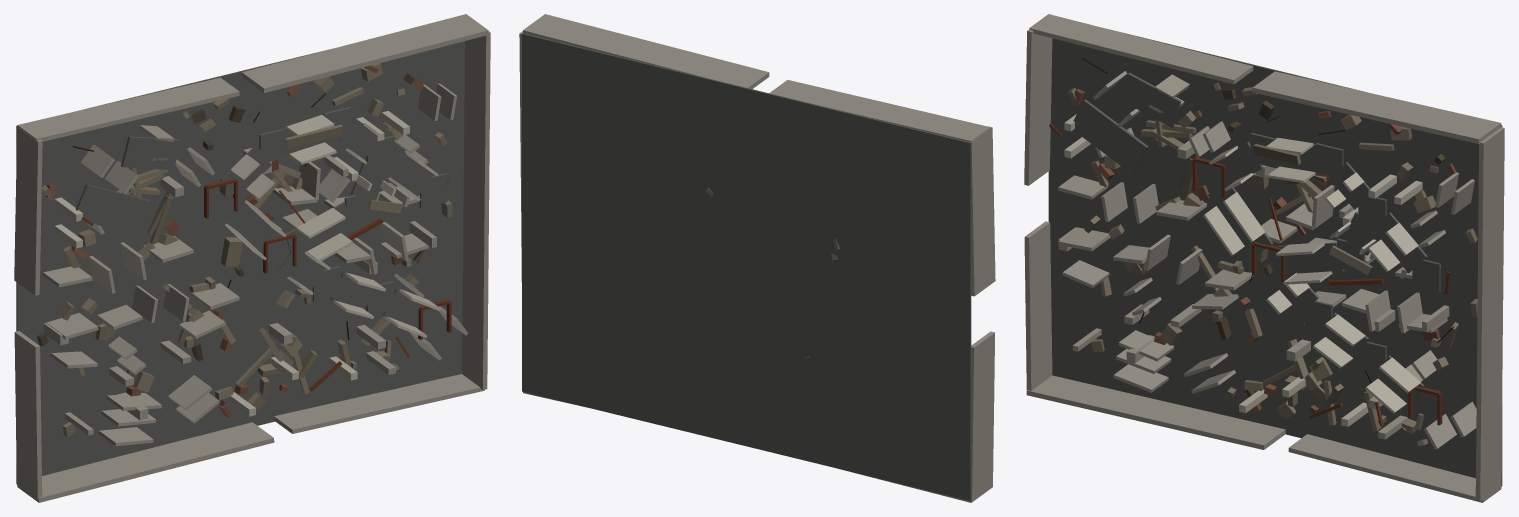
Rendered from Ruins-Urban-01_complex.obj.
3 renders of one model, left to right at view 1: azimuth 30°, elevation 25°; view 2: azimuth 150°, elevation 25°; view 3: azimuth 330°, elevation 25°, orthographic.
Visible parts, largest first — view 1: floor_slab, east_boundary, north_boundary_east, south_boundary_west, north_boundary_west, south_boundary_east, west_boundary_north, west_boundary_south, utility_ceiling_01, utility_ceiling_02, upper_walkway_uc_ua, upper_walkway_u3_upper_dead (+40 smaller); view 2: floor_slab, north_boundary_east, north_boundary_west, west_boundary_north, west_boundary_south; view 3: floor_slab, east_boundary, south_boundary_west, north_boundary_east, north_boundary_west, south_boundary_east, west_boundary_south, west_boundary_north, utility_ceiling_01, utility_ceiling_02, upper_walkway_u4_uc, upper_walkway_ua_u1 (+36 smaller).
Boxes of the visible parts, left/top/right/bottom form: floor_slab: left=16, top=41, right=464, bottom=483; east_boundary: left=462, top=31, right=490, bottom=389; north_boundary_east: left=242, top=14, right=488, bottom=92; south_boundary_west: left=17, top=422, right=274, bottom=502; north_boundary_west: left=17, top=77, right=239, bottom=141; south_boundary_east: left=274, top=374, right=484, bottom=433; west_boundary_north: left=14, top=126, right=42, bottom=295; west_boundary_south: left=14, top=331, right=42, bottom=499; utility_ceiling_01: left=75, top=184, right=149, bottom=234; utility_ceiling_02: left=121, top=136, right=181, bottom=170; upper_walkway_uc_ua: left=217, top=194, right=281, bottom=254; upper_walkway_u3_upper_dead: left=383, top=146, right=433, bottom=196; floor_slab: left=522, top=33, right=971, bottom=500; north_boundary_east: left=523, top=14, right=769, bottom=89; north_boundary_west: left=769, top=80, right=990, bottom=142; west_boundary_north: left=971, top=126, right=995, bottom=296; west_boundary_south: left=971, top=331, right=994, bottom=500; floor_slab: left=1048, top=29, right=1502, bottom=486; east_boundary: left=1475, top=127, right=1504, bottom=501; south_boundary_west: left=1026, top=375, right=1285, bottom=449; north_boundary_east: left=1252, top=71, right=1501, bottom=143; north_boundary_west: left=1029, top=14, right=1253, bottom=84; south_boundary_east: left=1288, top=434, right=1501, bottom=502; west_boundary_south: left=1024, top=221, right=1052, bottom=390; west_boundary_north: left=1024, top=29, right=1052, bottom=185; utility_ceiling_01: left=1073, top=99, right=1148, bottom=174; utility_ceiling_02: left=1120, top=72, right=1181, bottom=127; upper_walkway_u4_uc: left=1277, top=242, right=1344, bottom=275; upper_walkway_ua_u1: left=1212, top=141, right=1263, bottom=184.
Size of the model in its own units: 42.62 by 32.51 by 6.72.
